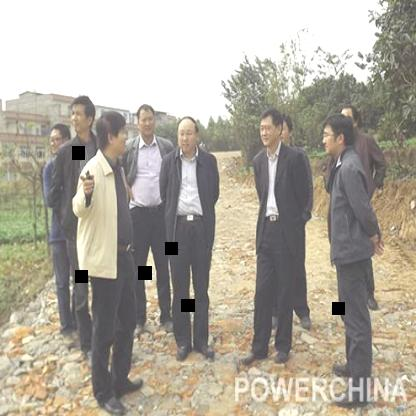head: (94, 110, 128, 164), (321, 112, 352, 158), (70, 92, 96, 140), (256, 105, 284, 149), (174, 113, 202, 157), (46, 121, 70, 158), (136, 101, 158, 140)
